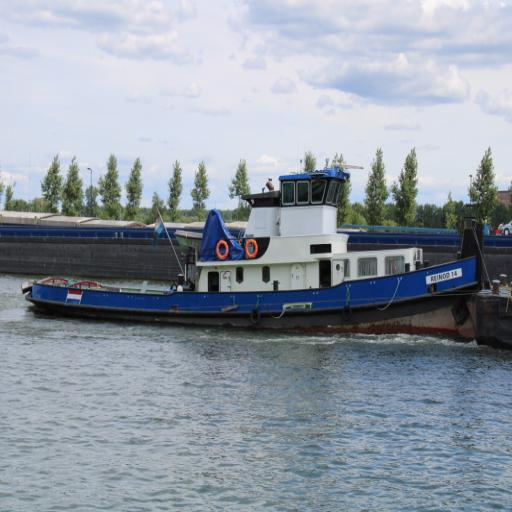tugboat: (21, 154, 490, 349)
